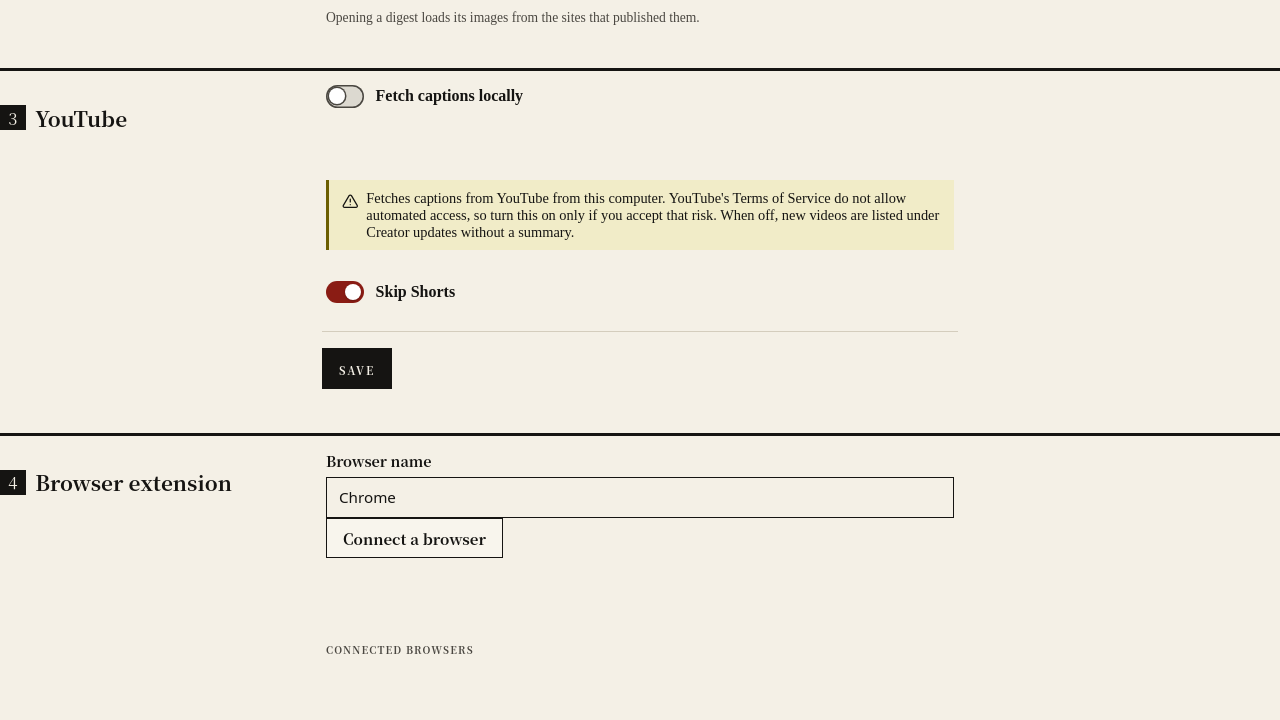
it: model settings › selects the token and announces copy failure when clipboard is missing
(page scrolled)
Submit the form labelled "Browser name", box [326,450,954,558]
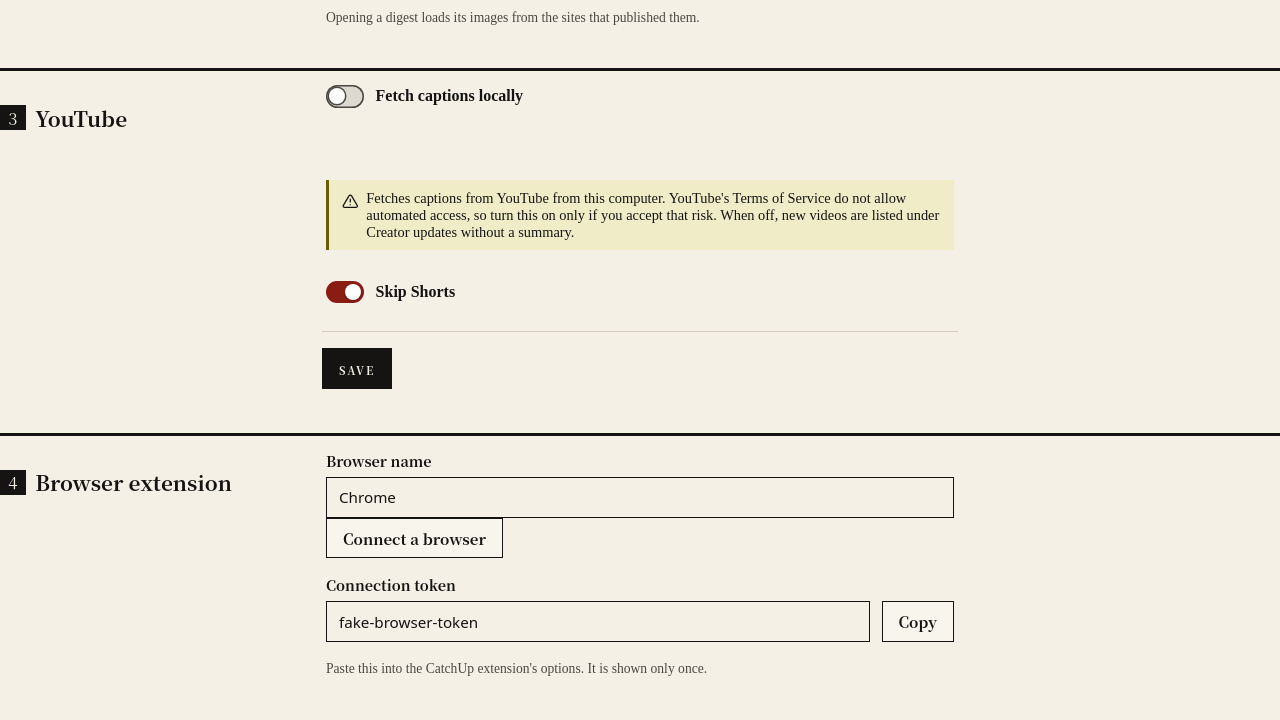
Click the button "Copy" at (918, 622), box [882,601,954,642]
(page scrolled)
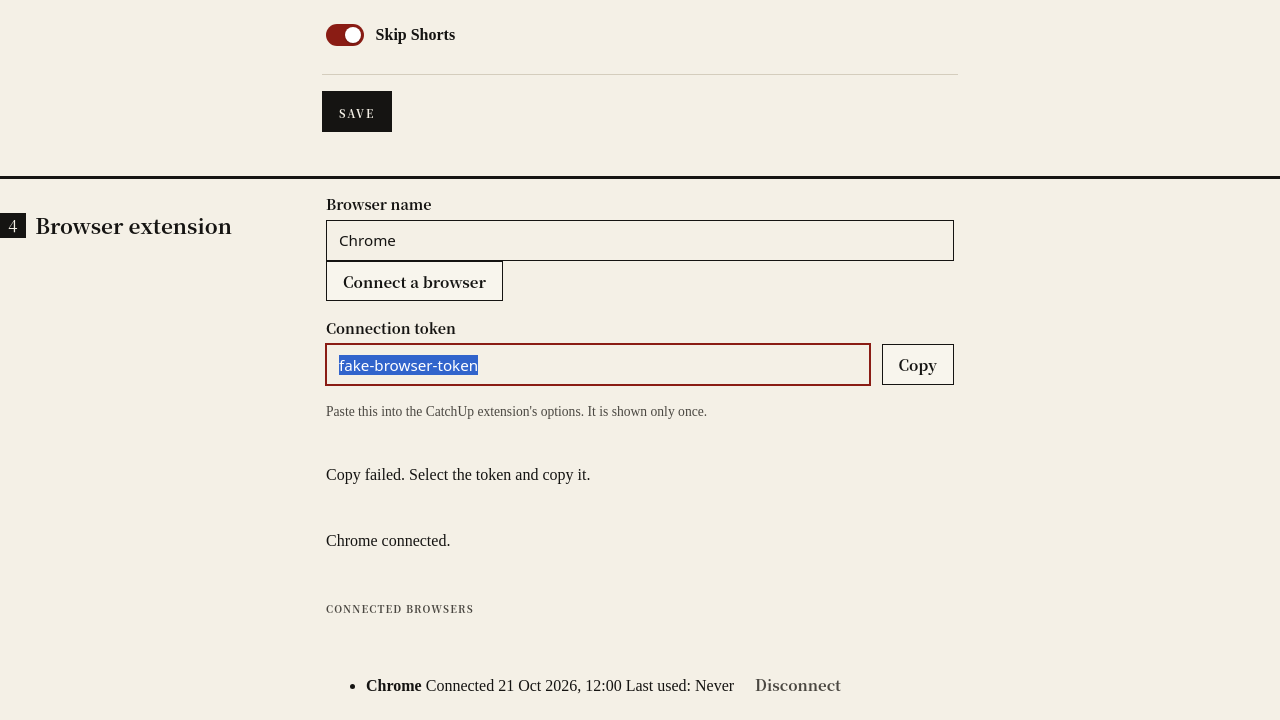
expect the message named "Copy result" reads "Copy failed. Select the token and copy it.": met, box [326,466,590,483]
